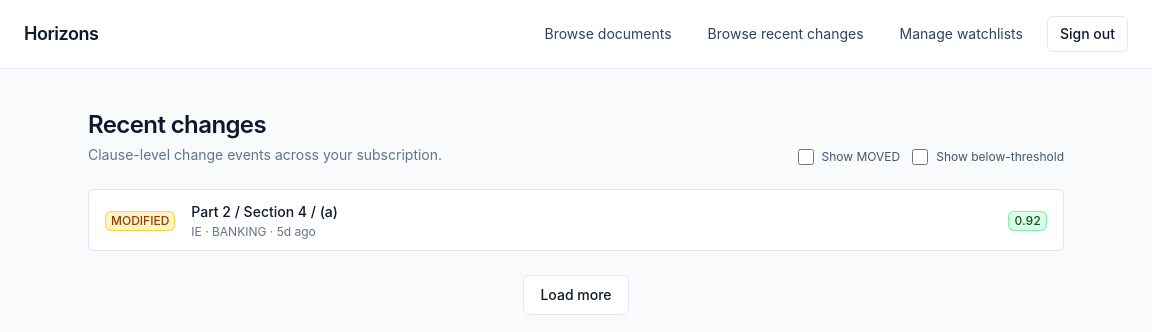
Test: ChangesView › paginates: shows Load more, fetches the next page, appends rows
The image size is (1152, 332).
Expected: the number of list items with test id "change-row" is 1, left=105, top=203, right=1047, bottom=239
Click the button with test id "load-more". click: {"x": 576, "y": 295}
box: left=523, top=275, right=628, bottom=315
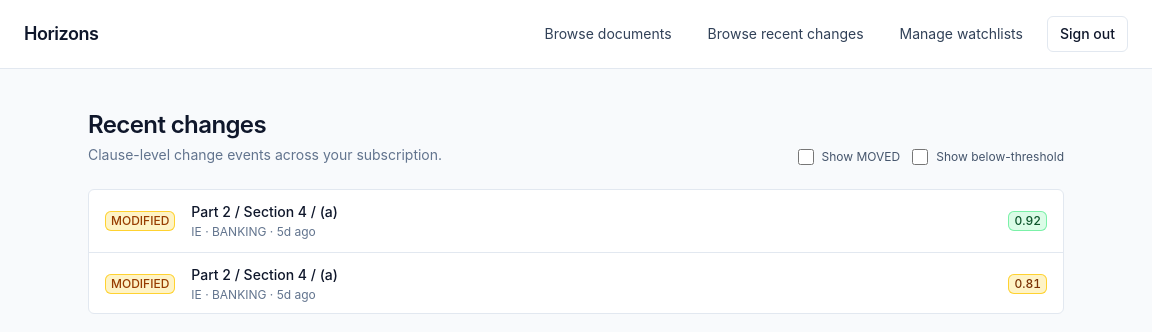
Expected: the number of list items with test id "change-row" is 2, left=89, top=190, right=1063, bottom=253; left=105, top=266, right=1047, bottom=302
